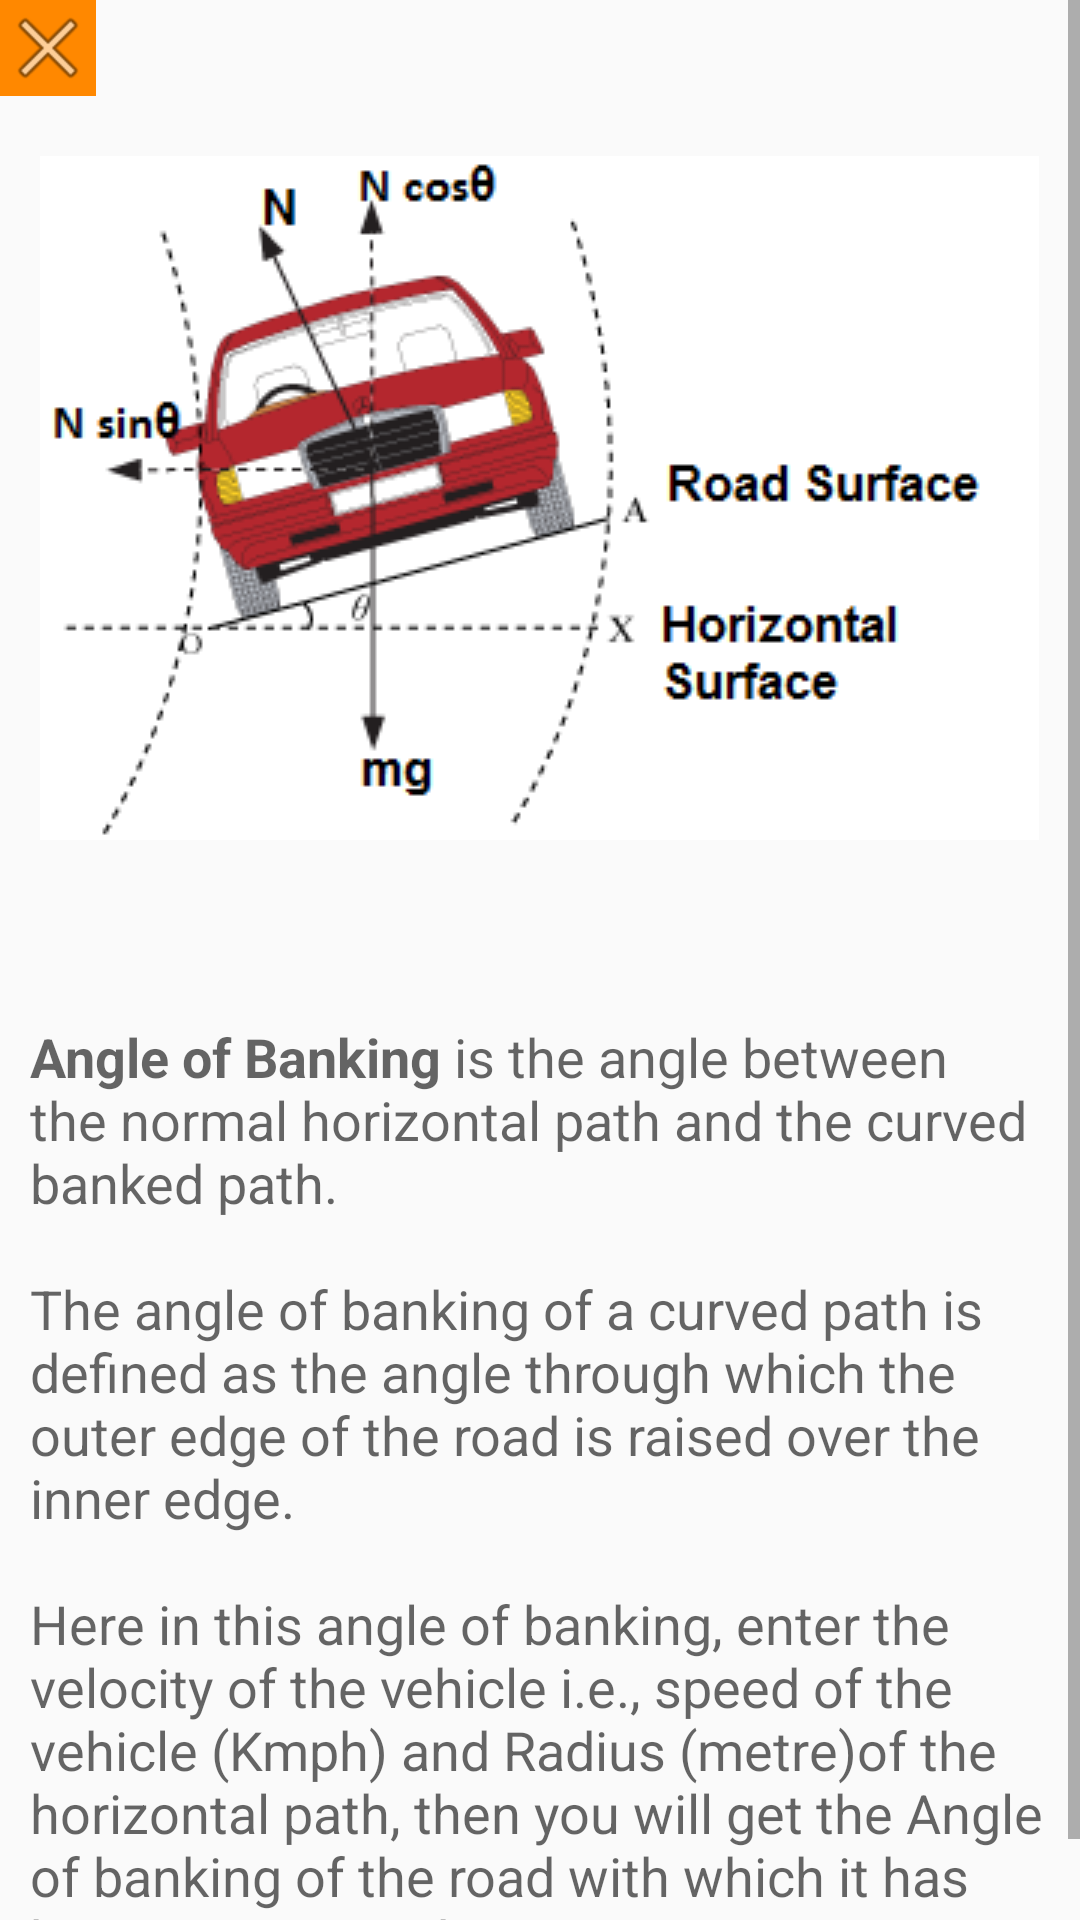

Icon bounding boxes for this 1080×1920 phone screenshot, format box(x1, y1, x2, y2):
close clear cancel: box(0, 0, 96, 96)
